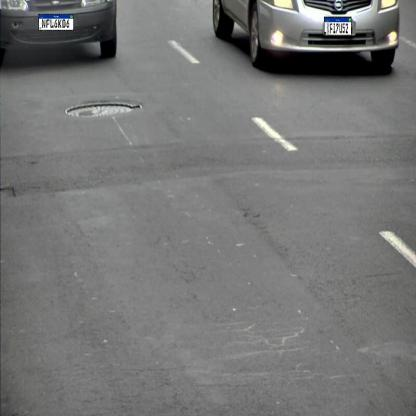PlacaM: (38, 14, 74, 30), (324, 17, 351, 36)
